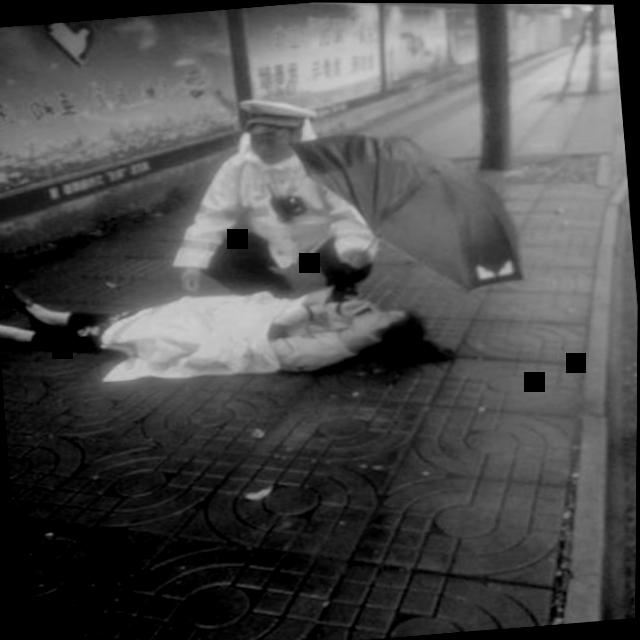Fall-Detected: (0, 247, 467, 406)
